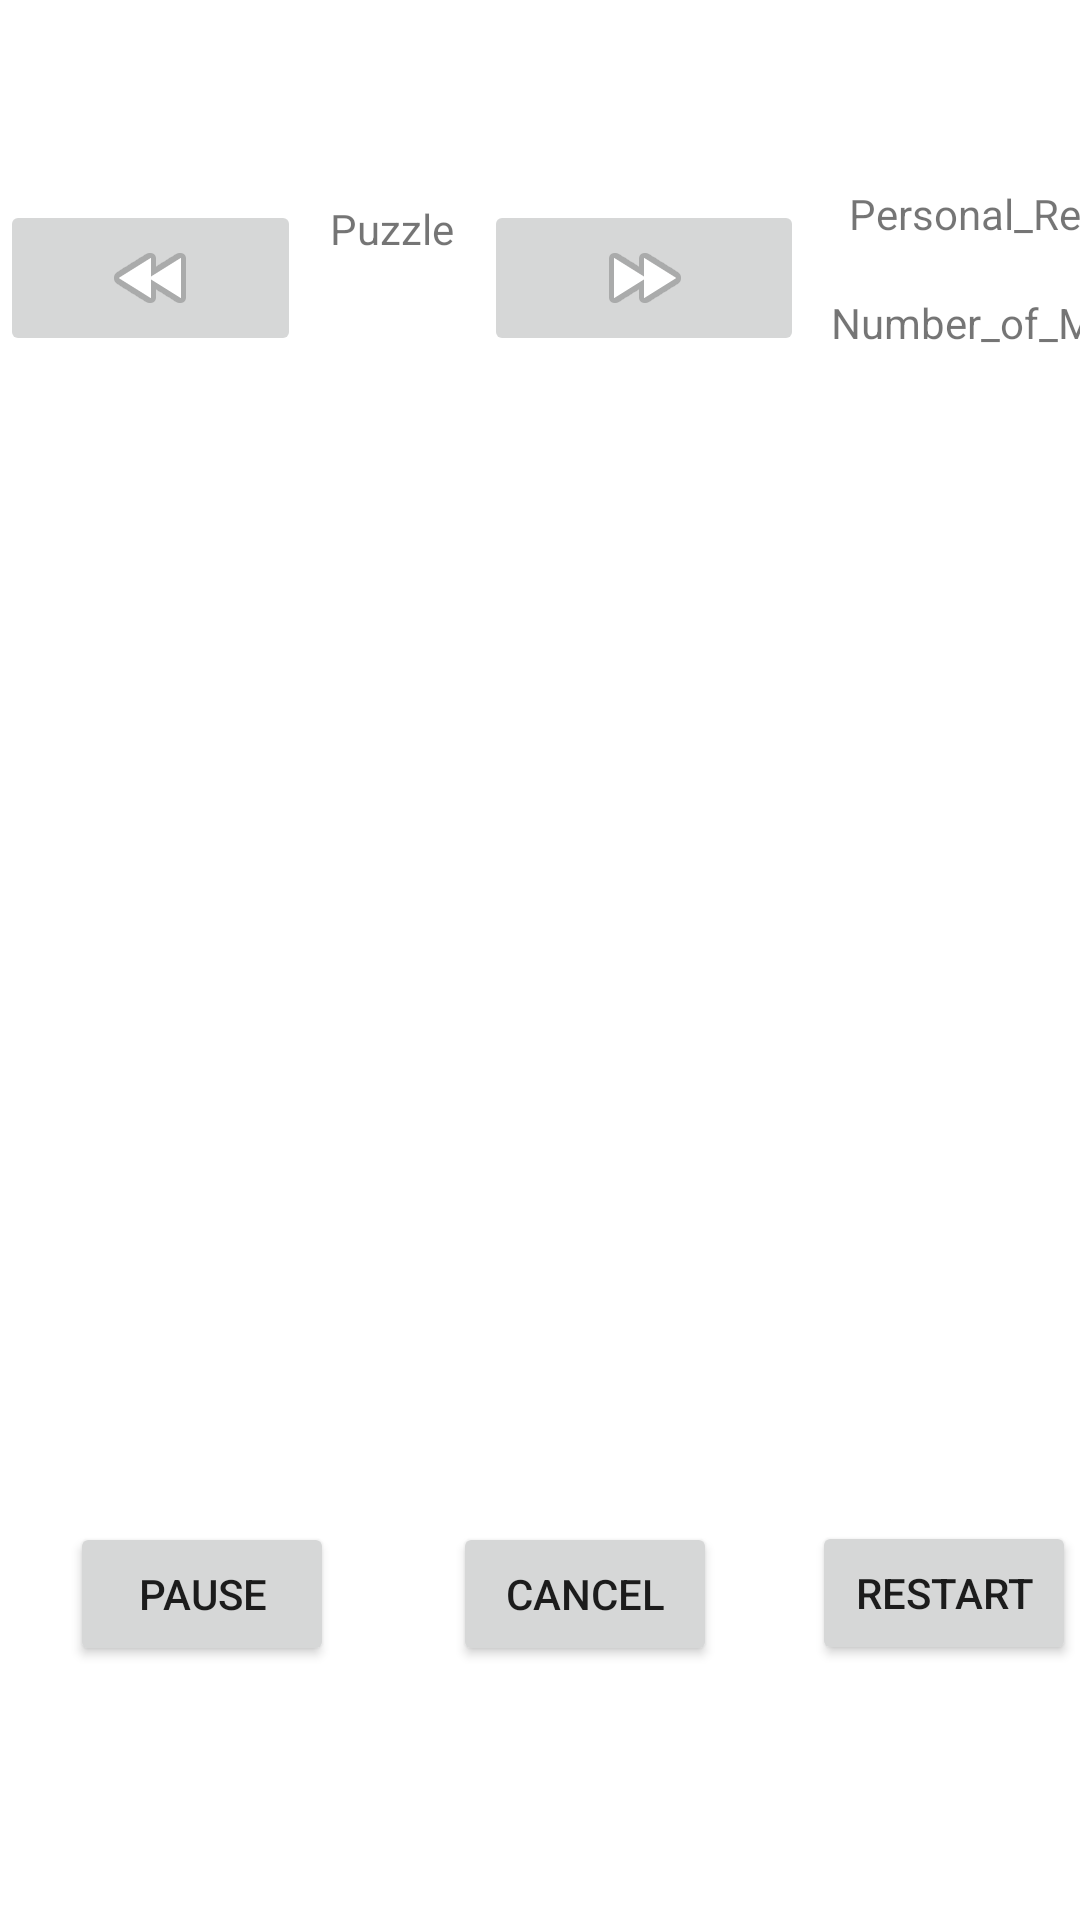

Icon bounding boxes for this 1080px x 1920px phone screenshot, format (x1, y1, x2, y2):
rew: (12, 218, 289, 338)
